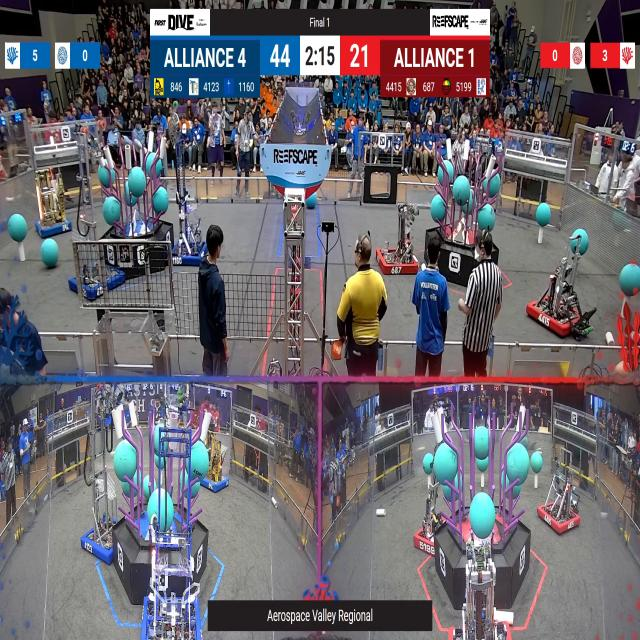scoreboard: (151, 38, 489, 98)
